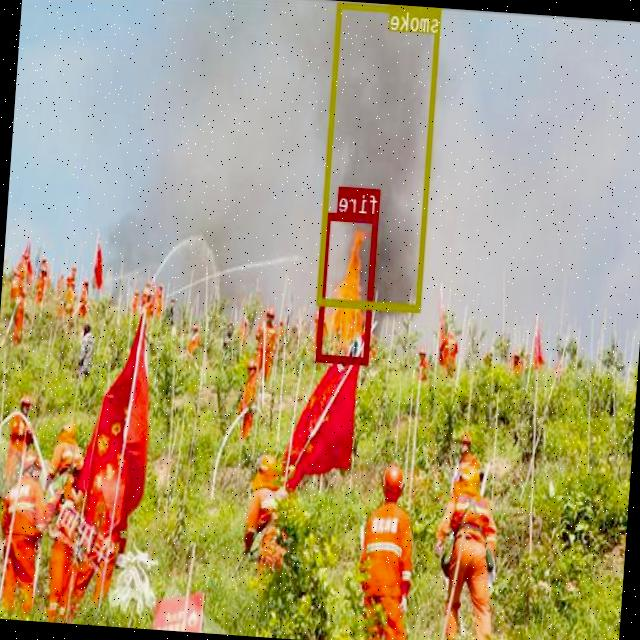fire: (317, 210, 379, 363)
smoke: (317, 1, 442, 310)
